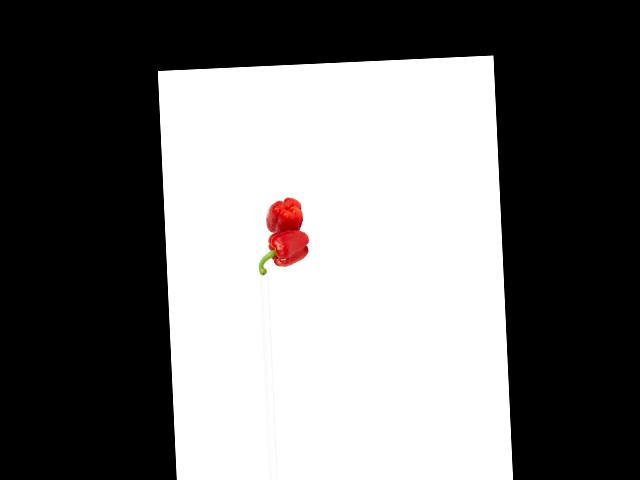bell_pepper: (263, 197, 305, 233)
